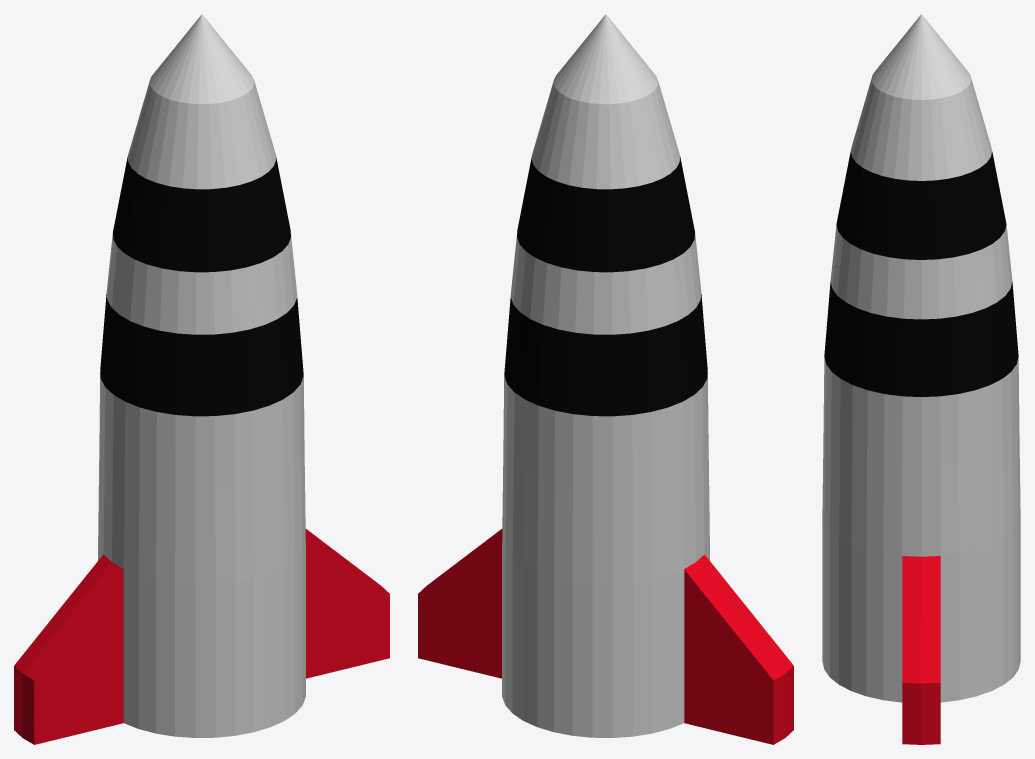
Rendered from RocketShip.fbx.
3 renders of one model, left to right at view 1: azimuth 30°, elevation 25°; view 2: azimuth 150°, elevation 25°; view 3: azimuth 270°, elevation 25°, orthographic. The views are drawn at different scales.
Parts seen in each view (by area): view 1: Cylinder; view 2: Cylinder; view 3: Cylinder.
Boxes of the visible parts, x1,y1,x2,y2 form: Cylinder: (14, 14, 389, 744); Cylinder: (418, 14, 793, 744); Cylinder: (822, 14, 1020, 744).
Bounding box in the file's own units: 398 × 721 × 200.
